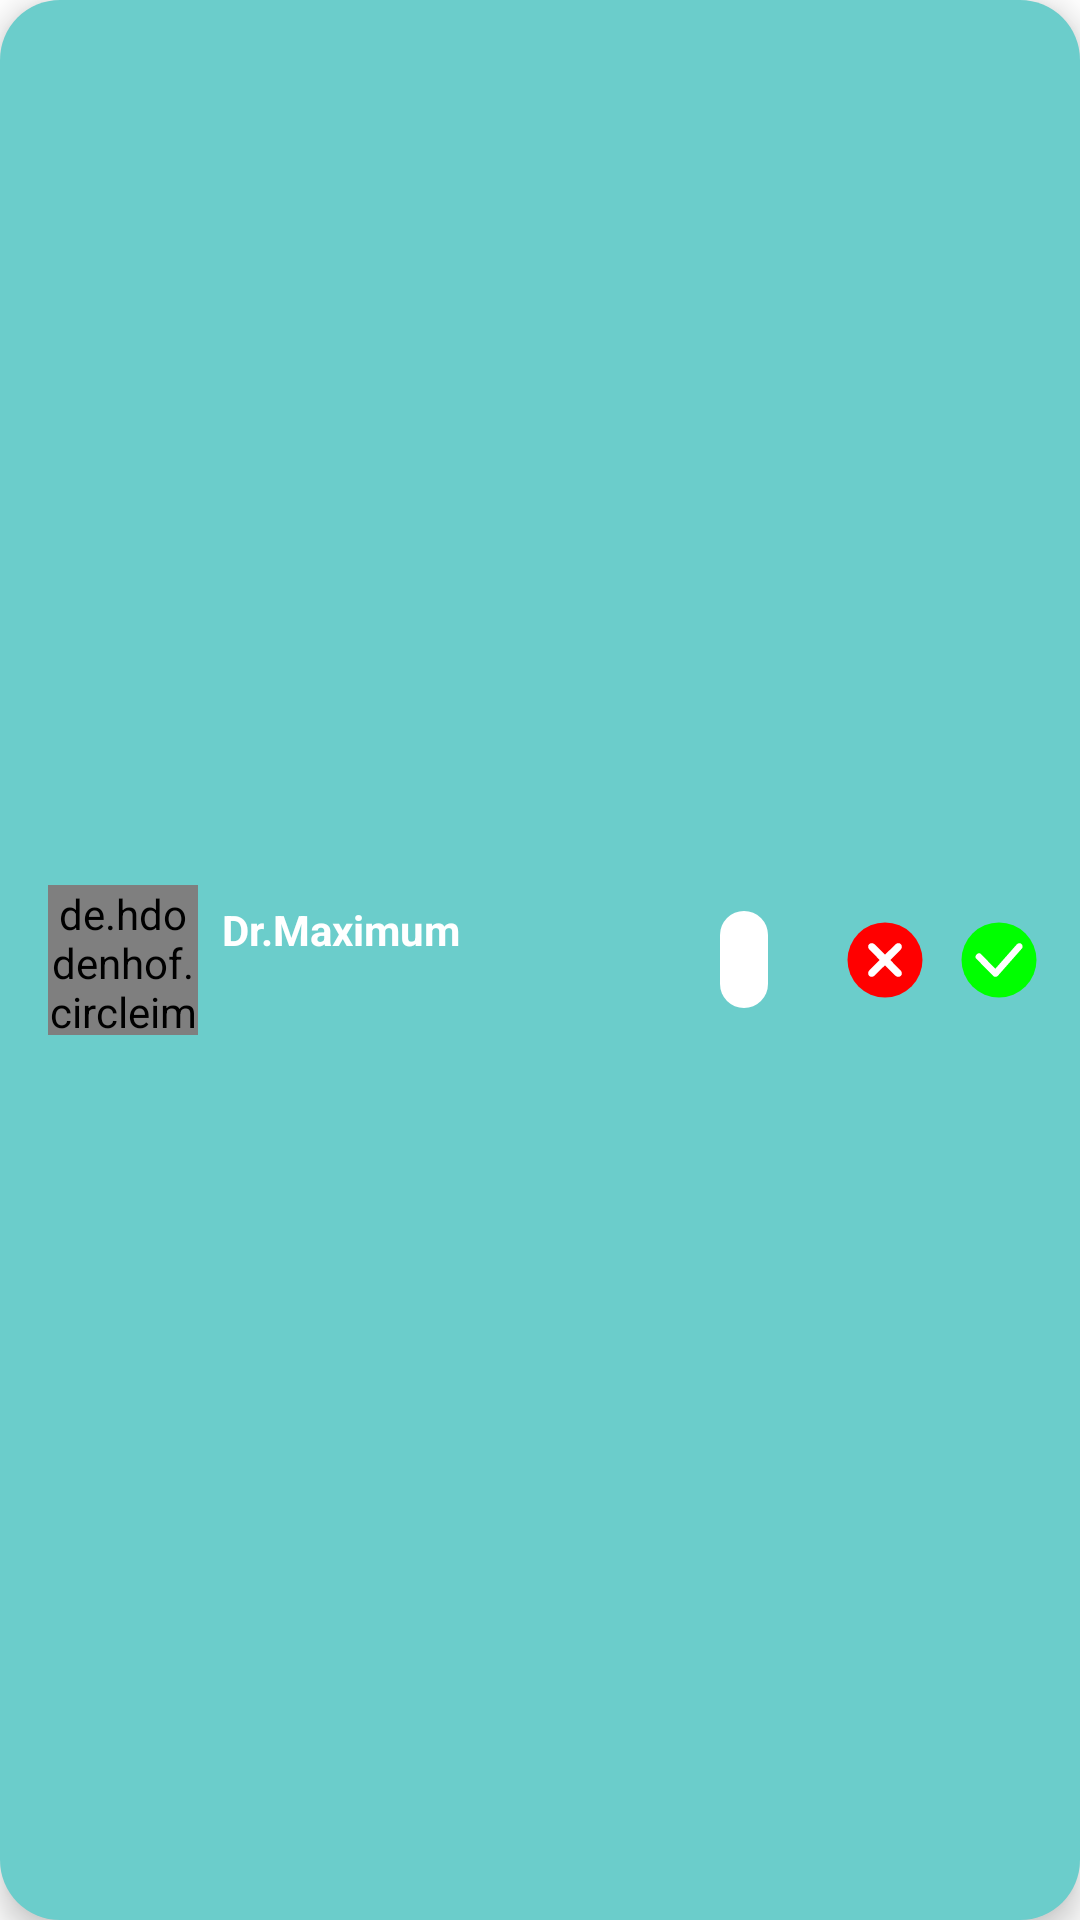

Icon click points for this 1080px×1920px phone screenshot, format (x=x, y=y):
cancel circle: (x=885, y=960)
check circle: (x=999, y=960)
